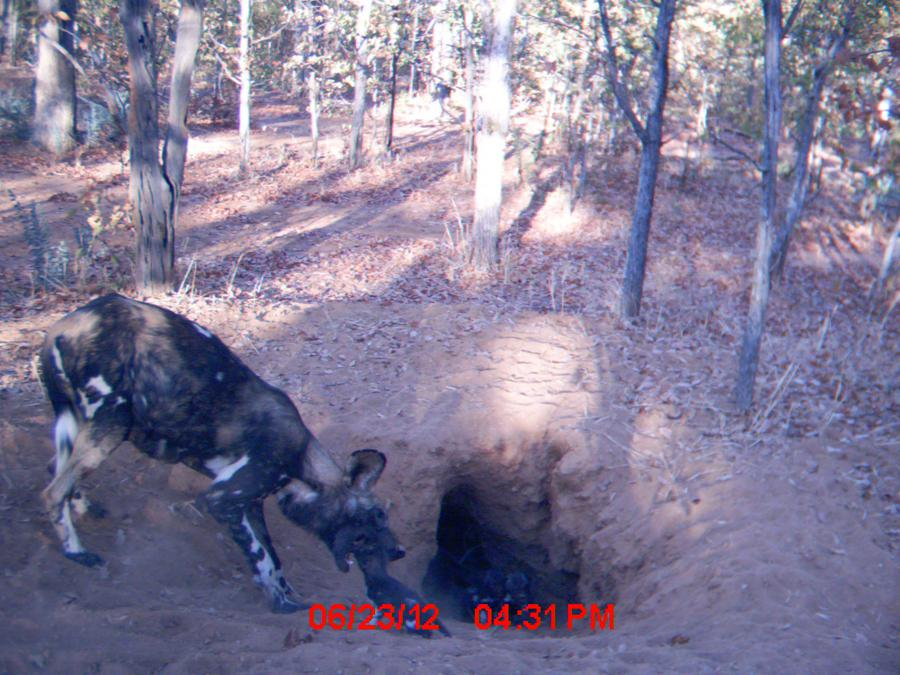wilddog: (34, 305, 431, 569)
